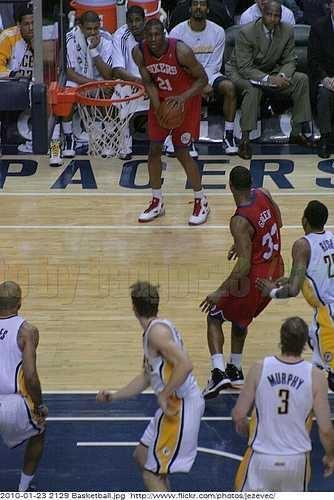ball: (156, 95, 184, 129)
human: (94, 278, 206, 492), (196, 164, 284, 398), (229, 313, 334, 490), (130, 16, 214, 226), (253, 198, 334, 397), (0, 278, 51, 492)
rim: (72, 77, 147, 162)
